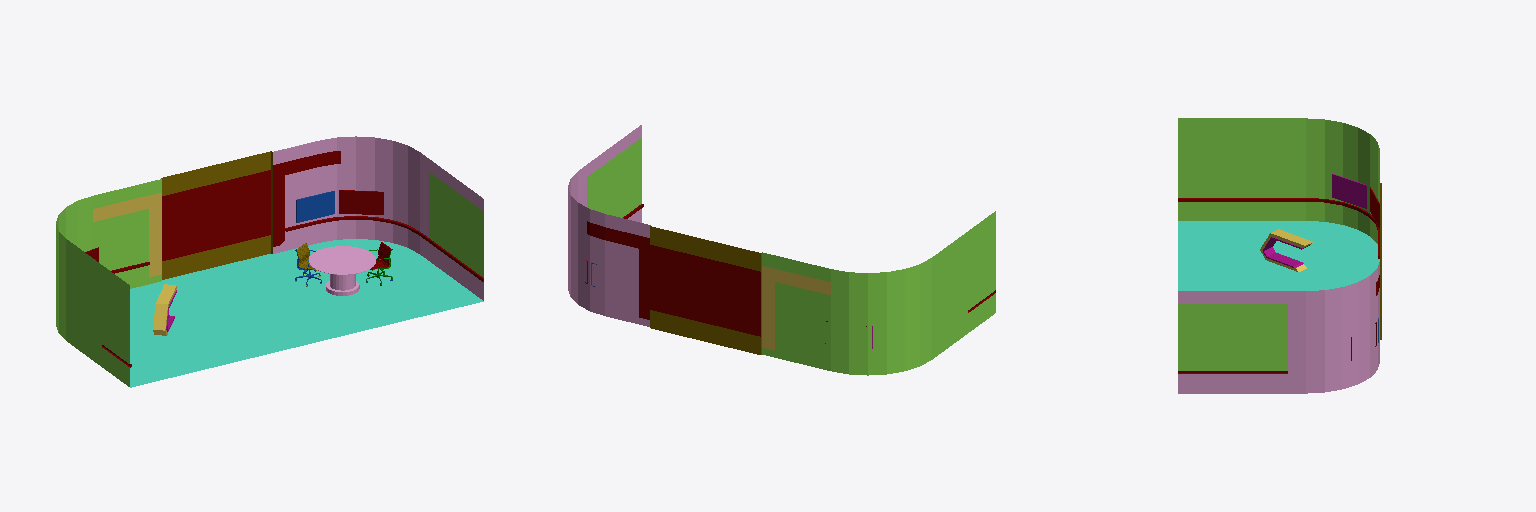
The picture shows the model from 3 angles: view 1: azimuth 30°, elevation 25°; view 2: azimuth 150°, elevation 25°; view 3: azimuth 270°, elevation 25°; orthographic projection.
Visible parts, largest first — view 1: Group_006, Group_010, Group_018, Group_012, Group_001, Group_002, Group_007, Group_017, Group_003, Group_013, Group_005, Group_004 (+1 smaller); view 2: Group_018, Group_010, Group_012, Group_001, Group_002, Group_017, Group_003; view 3: Group_012, Group_010, Group_006, Group_018, Group_016, Group_014, Group_009.
Boxes of the visible parts, <box> form: Group_006: <box>130,239,483,387</box>; Group_010: <box>273,136,483,300</box>; Group_018: <box>56,179,161,386</box>; Group_012: <box>66,172,483,363</box>; Group_001: <box>162,170,270,260</box>; Group_002: <box>161,151,272,279</box>; Group_007: <box>309,246,375,295</box>; Group_017: <box>93,192,161,276</box>; Group_003: <box>273,151,340,246</box>; Group_013: <box>339,190,383,214</box>; Group_005: <box>296,191,334,222</box>; Group_004: <box>285,216,483,281</box>; Group_018: <box>762,211,995,375</box>; Group_010: <box>568,125,650,326</box>; Group_012: <box>587,138,995,336</box>; Group_001: <box>650,245,760,336</box>; Group_002: <box>650,226,761,354</box>; Group_017: <box>762,266,830,350</box>; Group_003: <box>587,221,649,319</box>; Group_012: <box>1178,131,1304,370</box>; Group_010: <box>1178,262,1379,393</box>; Group_006: <box>1178,221,1379,290</box>; Group_018: <box>1178,118,1379,243</box>; Group_016: <box>1178,198,1379,258</box>; Group_014: <box>1332,174,1366,208</box>; Group_009: <box>1260,229,1312,271</box>.
Size of the model in its own units: 424 by 117 by 213.